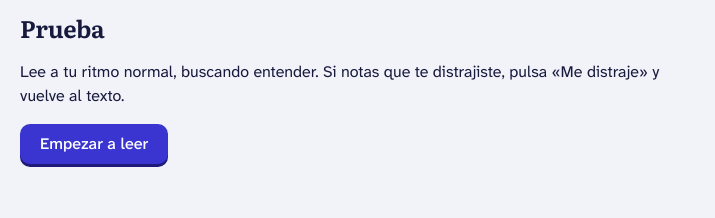
Test: ReadingView › oculta el texto hasta pulsar Empezar
The image size is (715, 218).
expect the text "Primer párrafo" is not shown: met
Click the button "Empezar a leer". click: (94, 144)
box: [20,124,168,164]
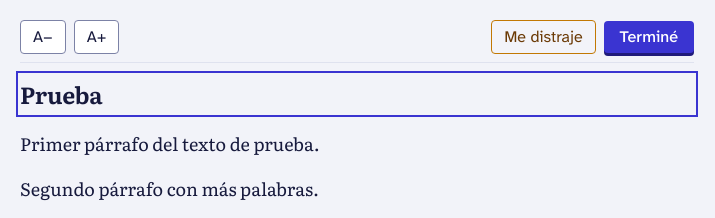
expect the text "Primer párrafo del texto de prueba." is shown: met, box [20,130,320,157]
